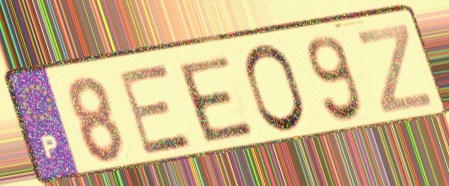8: (64, 73, 129, 165)
9: (307, 33, 366, 125)
E: (115, 60, 198, 158), (174, 52, 259, 145)
O: (242, 42, 309, 137)
Z: (354, 20, 436, 117)
